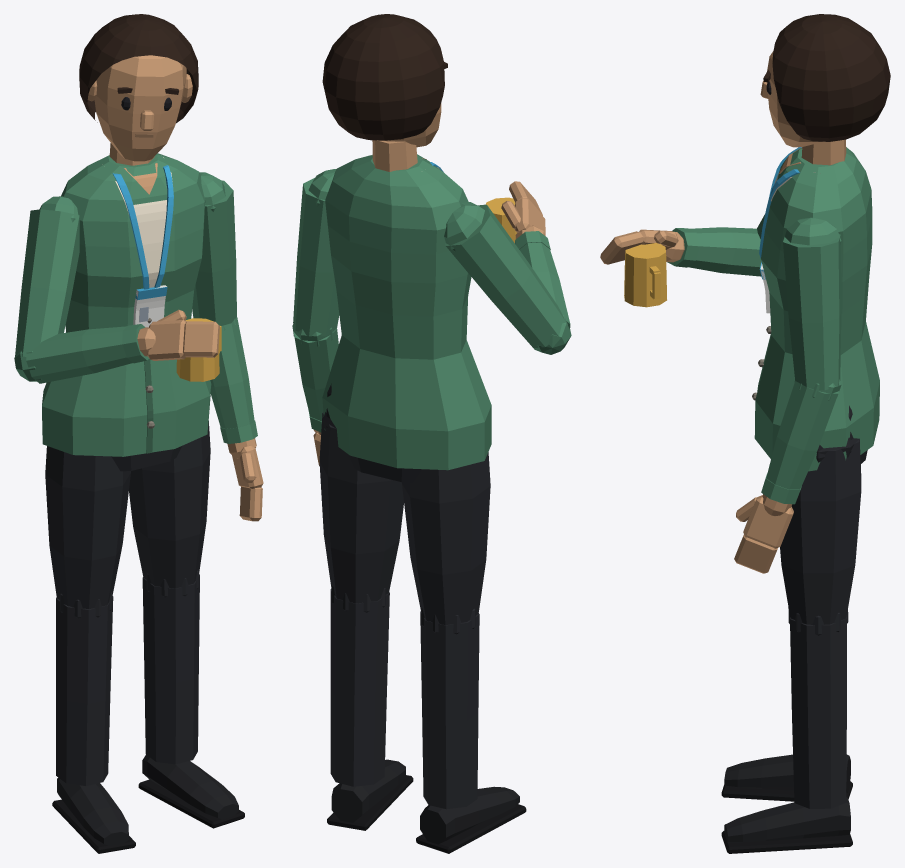
Rendered from person_coworker_mug.glb.
3 renders of one model, left to right at view 1: azimuth 30°, elevation 25°; view 2: azimuth 150°, elevation 25°; view 3: azimuth 270°, elevation 25°, orthographic. The views are drawn at different scales.
Parts seen in each view (by area): view 1: Chest, Head, Thigh_R, Shin_L, Shin_R, Thigh_L, UpperArm_R, UpperArm_L, Forearm_R, Foot_L, Forearm_L, Foot_R (+4 smaller); view 2: Chest, Head, Thigh_R, Shin_R, Shin_L, Thigh_L, UpperArm_R, UpperArm_L, Foot_R, Foot_L, Forearm_L, Forearm_R (+3 smaller); view 3: Chest, Head, Thigh_L, Shin_L, UpperArm_L, Foot_L, Forearm_L, Forearm_R, Hand_L, Foot_R, Mug, Hand_R (+1 smaller).
Boxes of the visible parts, box(x1,y1,x2,y2) form: Chest: box(42, 153, 211, 456); Head: box(79, 14, 198, 161); Thigh_R: box(45, 446, 130, 609); Shin_L: box(142, 570, 199, 764); Shin_R: box(56, 592, 113, 785); Thigh_L: box(129, 421, 210, 588); UpperArm_R: box(15, 196, 79, 356); UpperArm_L: box(192, 172, 236, 325); Forearm_R: box(14, 324, 148, 383); Foot_L: box(138, 754, 244, 828); Forearm_L: box(210, 317, 257, 443); Foot_R: box(52, 777, 135, 853); Chest: box(322, 154, 491, 470); Head: box(322, 14, 447, 147); Thigh_R: box(402, 452, 490, 624); Shin_R: box(420, 608, 479, 809); Shin_L: box(330, 584, 389, 786); Thigh_L: box(319, 412, 403, 603); UpperArm_R: box(444, 202, 567, 347); UpperArm_L: box(293, 169, 339, 336); Foot_R: box(416, 786, 526, 853); Foot_L: box(327, 759, 413, 830); Forearm_L: box(292, 322, 338, 432); Forearm_R: box(515, 231, 571, 354); Chest: box(752, 147, 879, 471); Head: box(760, 14, 890, 147); Thigh_L: box(780, 438, 861, 624); Shin_L: box(788, 607, 848, 808); UpperArm_L: box(783, 217, 841, 390); Foot_L: box(721, 797, 852, 853); Forearm_L: box(761, 379, 841, 504); Forearm_R: box(667, 227, 761, 276); Hand_L: box(734, 494, 793, 573); Foot_R: box(721, 754, 852, 801); Mug: box(624, 242, 666, 307); Hand_R: box(600, 229, 684, 264).
Bounding box in the file's own units: 0.5174 × 1.59 × 0.5212.
